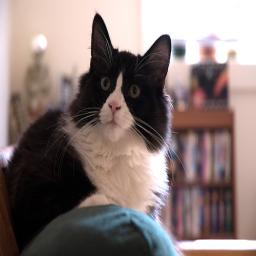catnose: (108, 100, 122, 116)
